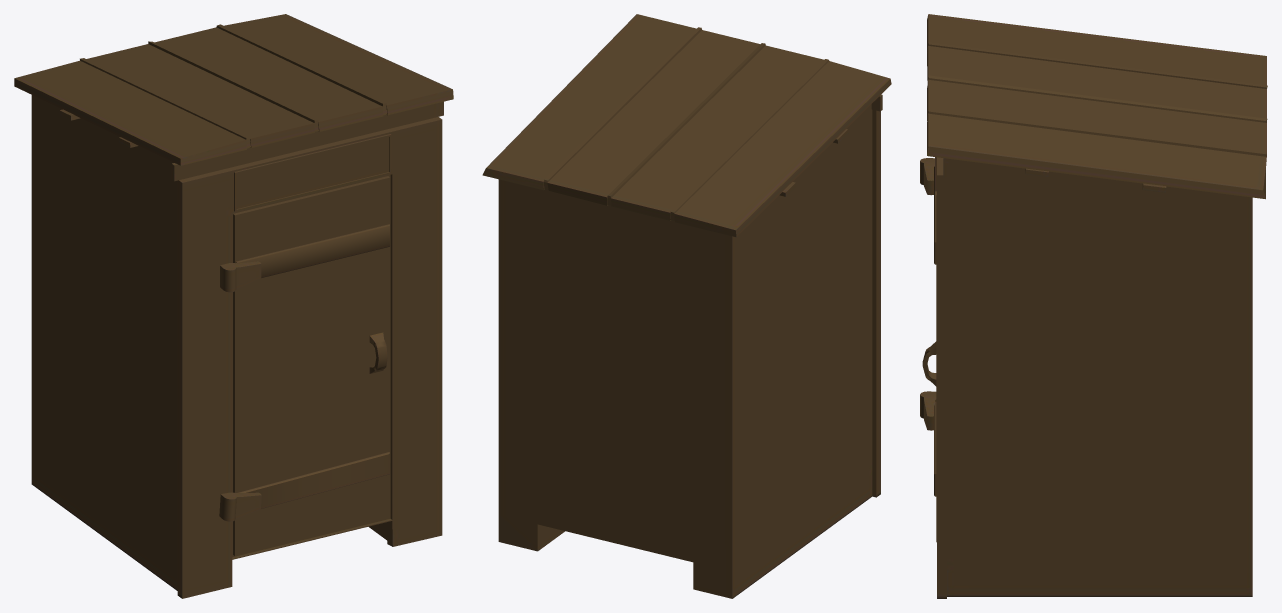
Rendered from Banheiro.fbx.
3 renders of one model, left to right at view 1: azimuth 30°, elevation 25°; view 2: azimuth 150°, elevation 25°; view 3: azimuth 270°, elevation 25°, orthographic. The views are drawn at different scales.
Parts seen in each view (by area): view 1: Banheiro; view 2: Banheiro; view 3: Banheiro.
Boxes of the visible parts, x1,y1,x2,y2 form: Banheiro: [14, 14, 453, 598]; Banheiro: [482, 14, 891, 598]; Banheiro: [920, 14, 1267, 598].
Bounding box in the file's own units: 148 × 227 × 156.
